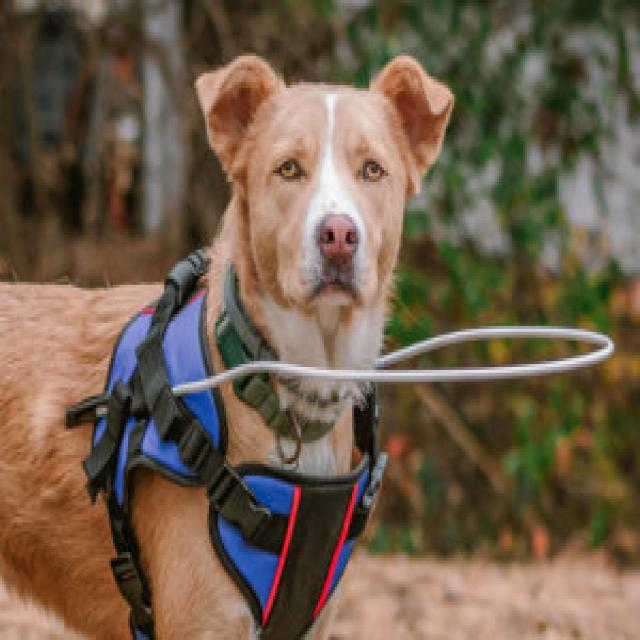eye: (273, 154, 307, 186), (356, 157, 389, 186)
